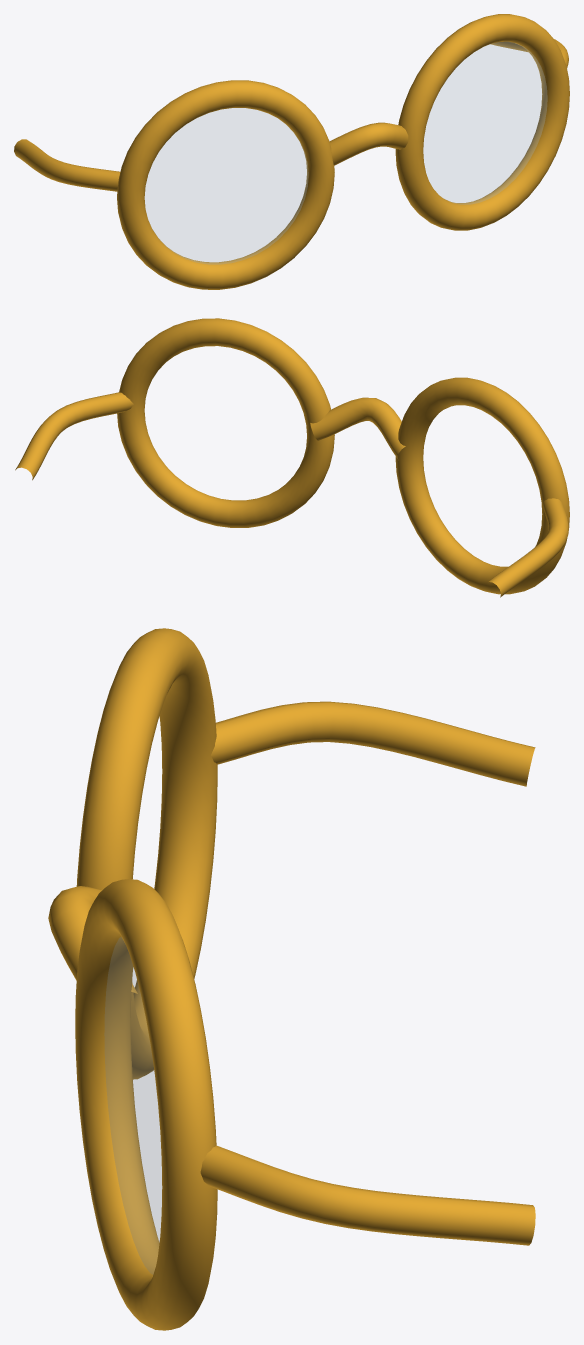
File: acc-glasses.glb
The picture shows the model from 3 angles, top to bottom: view 1: azimuth 30°, elevation 25°; view 2: azimuth 150°, elevation 25°; view 3: azimuth 270°, elevation 25°; orthographic projection. The views are drawn at different scales.
Bounding box in the file's own units: 1.28 × 0.4886 × 0.5258.
